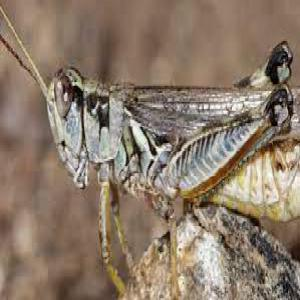locust: (30, 49, 300, 226)
